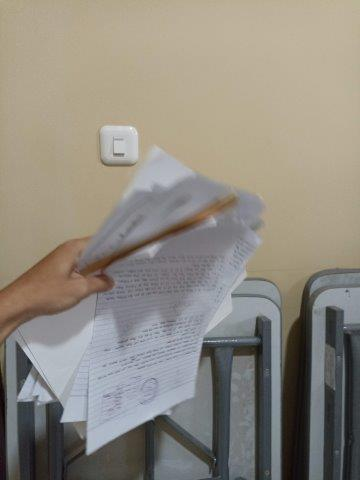kertas: (16, 143, 265, 457)
